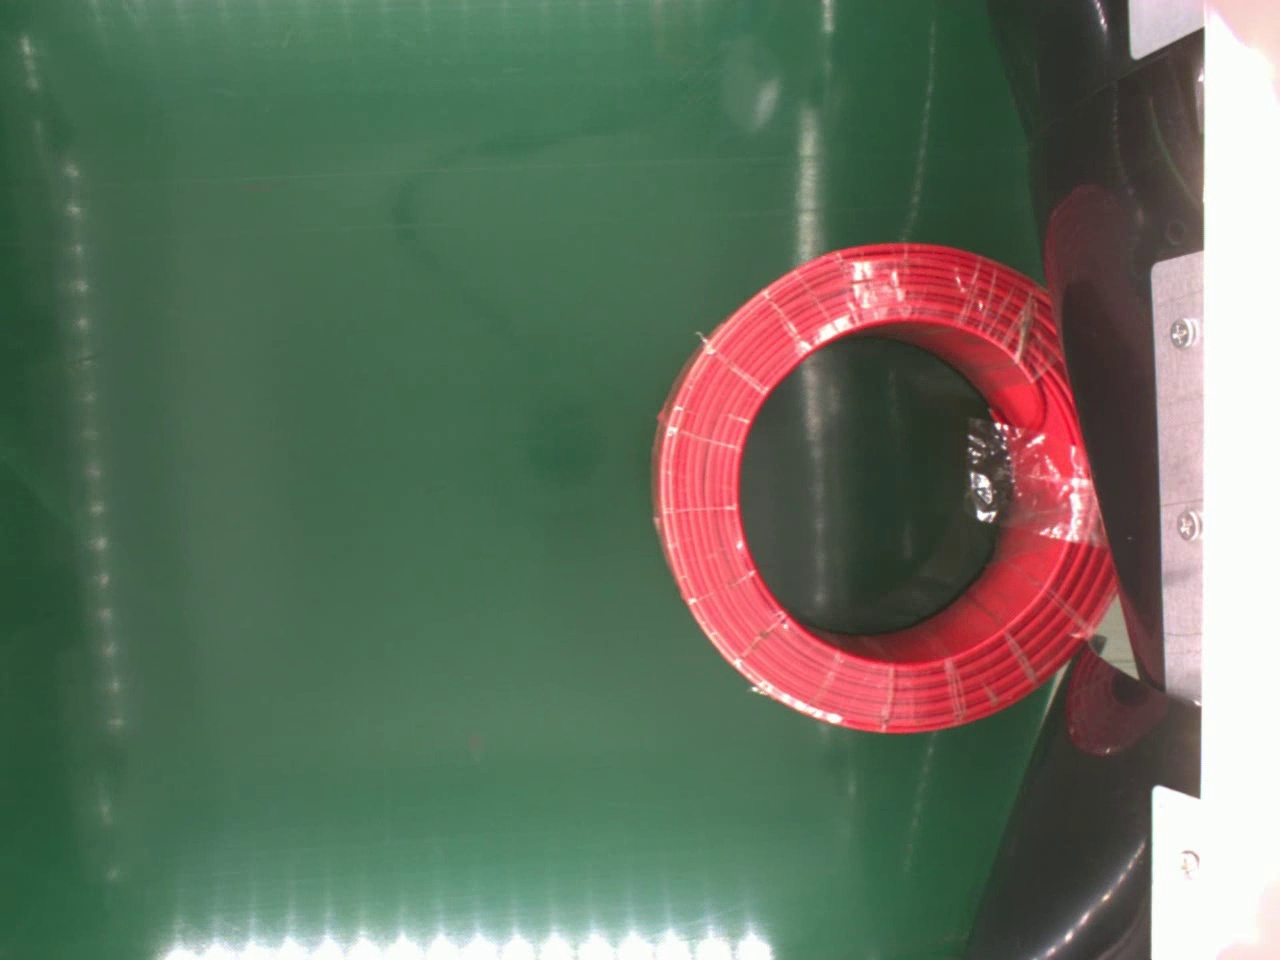red: (643, 237, 1119, 737)
